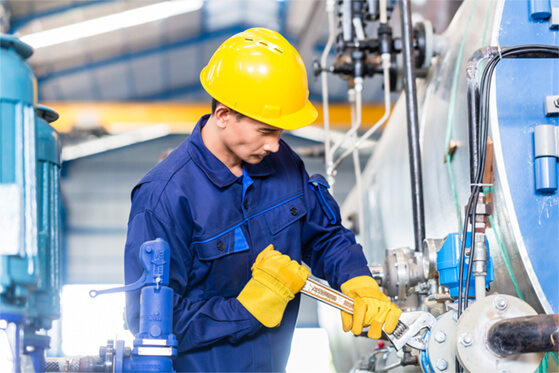epi: (123, 26, 399, 373)
